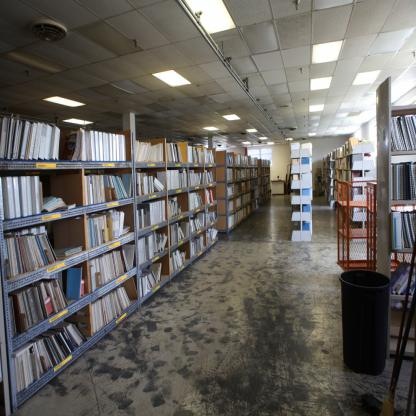book: (14, 316, 90, 393), (10, 278, 73, 339), (2, 225, 61, 278), (0, 116, 64, 160), (89, 240, 136, 291), (0, 173, 49, 221), (86, 204, 137, 246), (92, 281, 134, 332), (67, 132, 129, 160), (85, 174, 134, 206), (388, 209, 416, 250), (141, 258, 167, 300), (138, 232, 168, 265), (390, 162, 415, 201), (138, 198, 170, 228), (389, 262, 416, 296), (391, 114, 416, 150), (136, 171, 166, 195), (135, 140, 164, 160), (190, 232, 208, 258), (167, 170, 188, 192), (185, 145, 206, 167), (20, 121, 30, 159), (190, 212, 206, 235), (169, 224, 186, 245), (169, 250, 184, 272), (165, 144, 183, 162), (169, 199, 183, 219), (190, 192, 205, 210), (190, 172, 204, 191), (207, 207, 219, 220), (206, 190, 215, 205), (209, 228, 218, 241), (207, 148, 215, 161), (206, 171, 214, 182)
